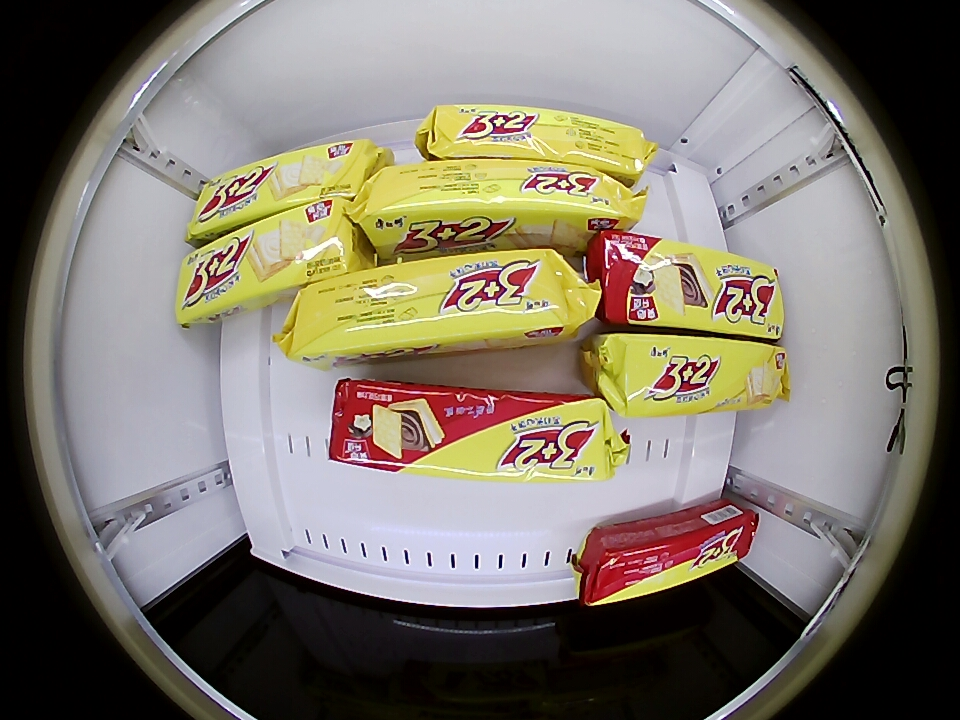3+2-2: (286, 251, 580, 361), (358, 161, 644, 246), (175, 202, 351, 323), (191, 139, 372, 237), (417, 104, 653, 172), (597, 335, 788, 417)
3jia2: (328, 381, 612, 480), (595, 235, 784, 336), (583, 514, 757, 606)
